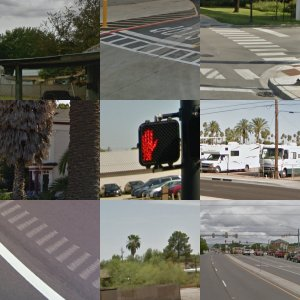公車: (126, 208, 200, 270), (216, 136, 287, 196)
汽車: (255, 261, 275, 278), (236, 36, 255, 50), (16, 55, 31, 70), (1, 56, 14, 73)
紅綠燈: (149, 15, 186, 49)
行人穿越道: (122, 110, 192, 174)
